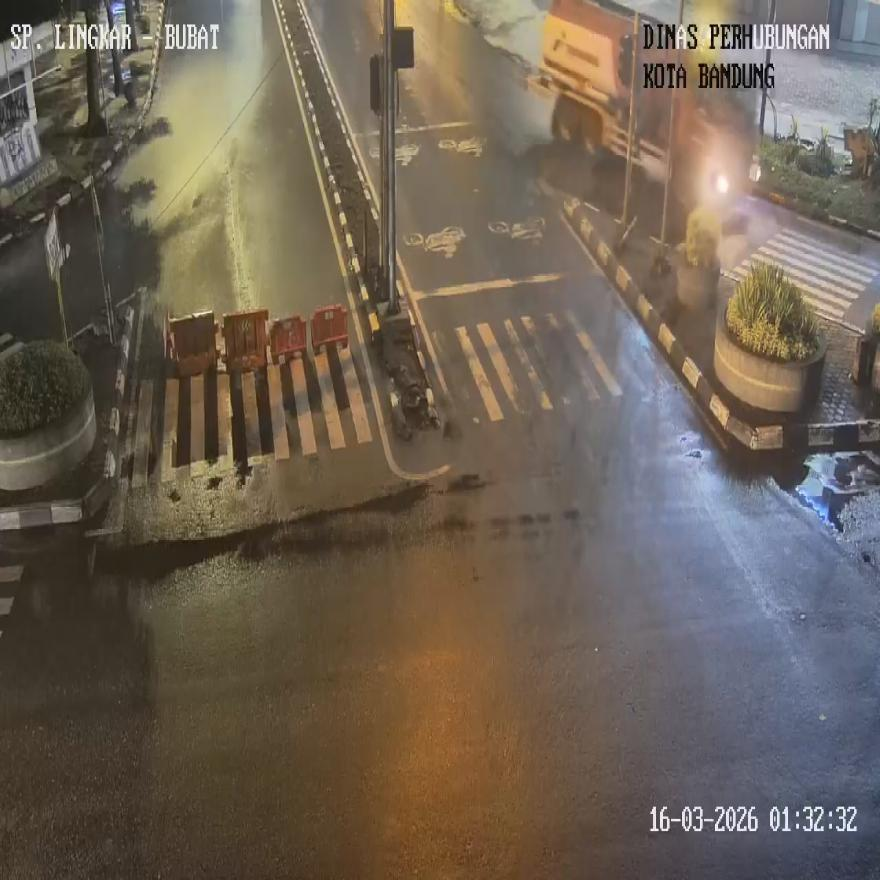Truk berat: (536, 0, 761, 225)
